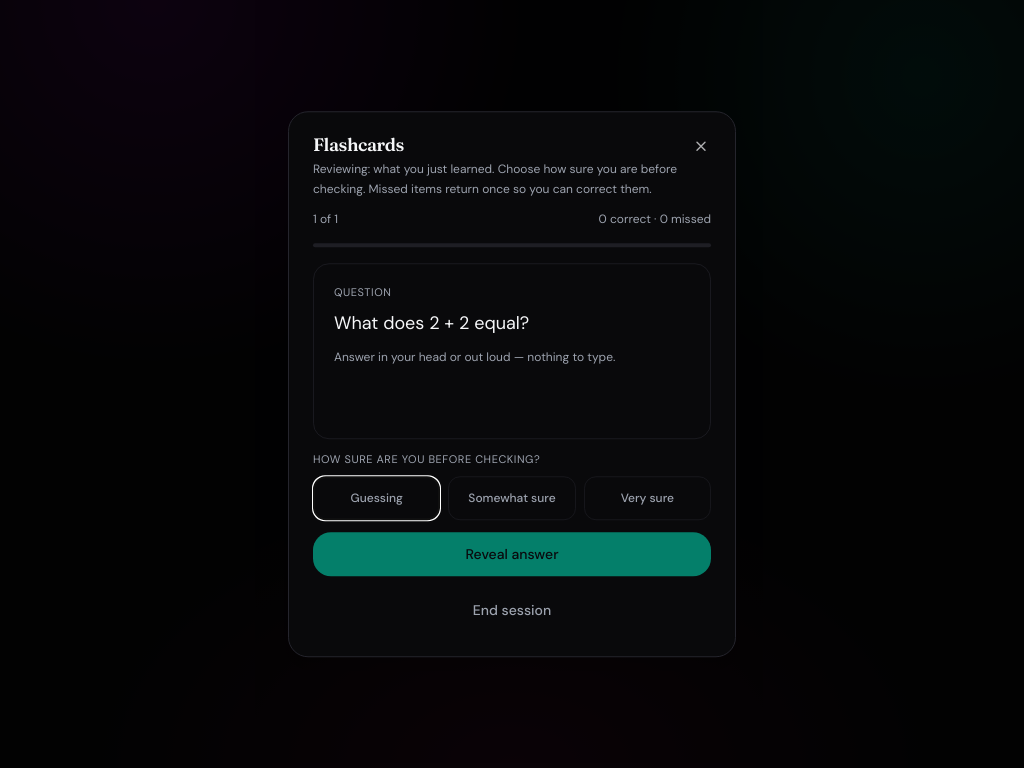
real flashcard runner › waits for an explicit finish after the final card is rated
The image size is (1024, 768).
Click the button "Very sure". click: (647, 498)
box: [584,476,711,520]
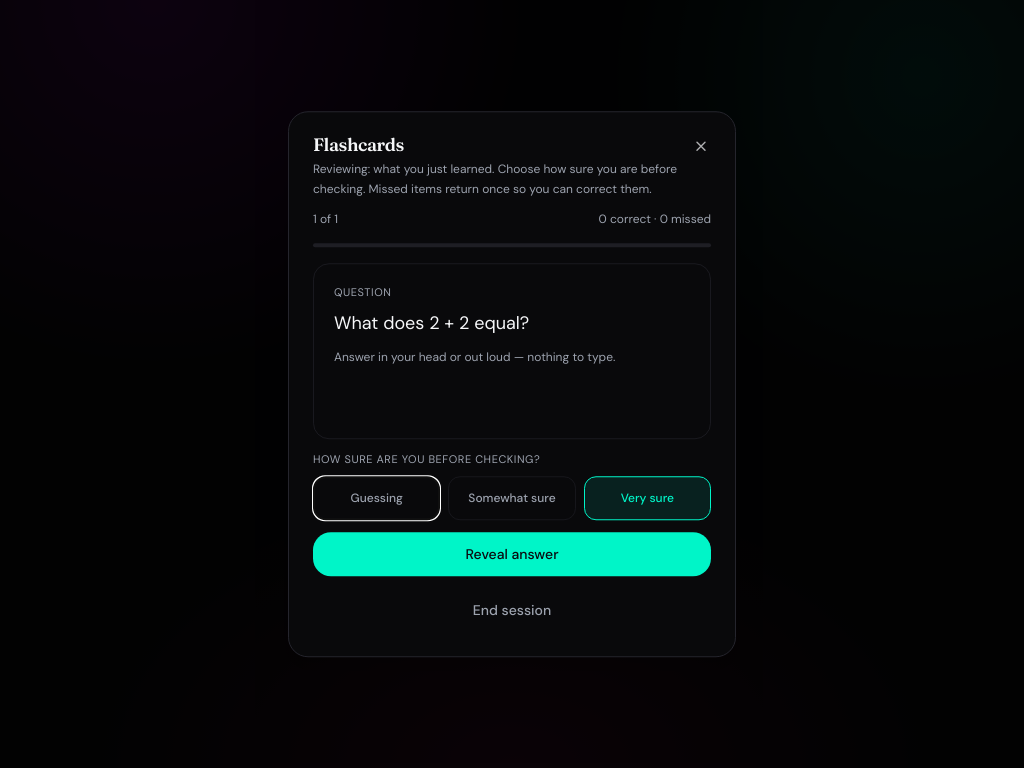
Click the button "Reveal answer". click: (512, 554)
box: [313,532,711,576]
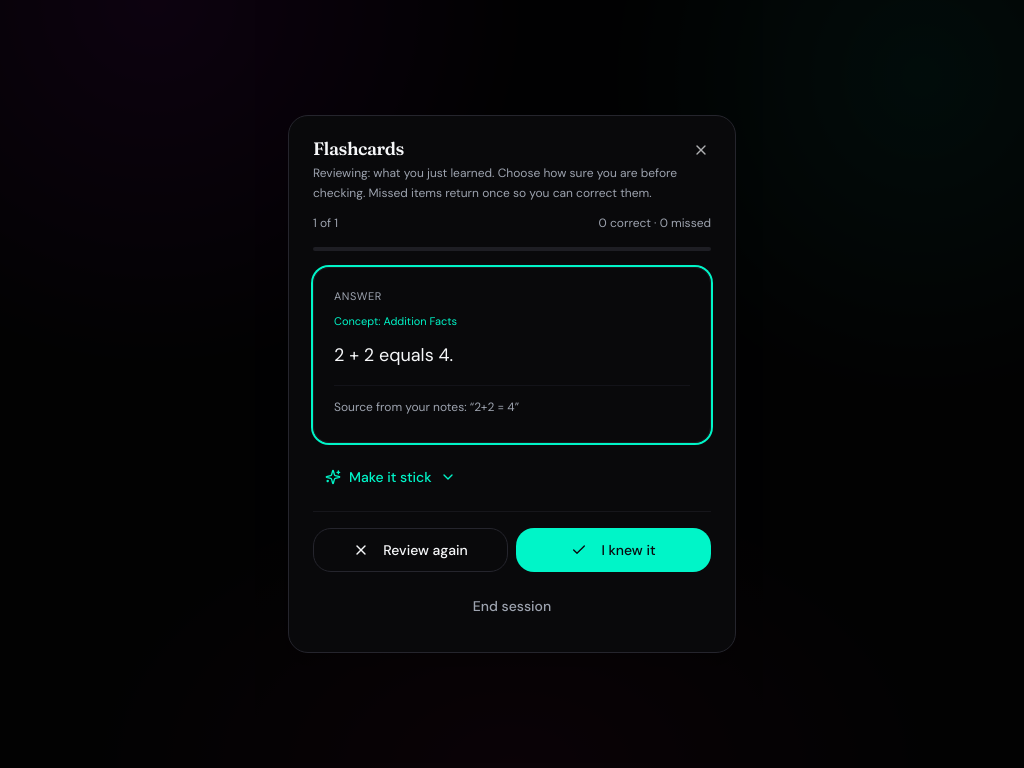
expect the button "I knew it" is enabled: met
Click the button "I knew it". click: (614, 550)
box: [516,528,711,572]
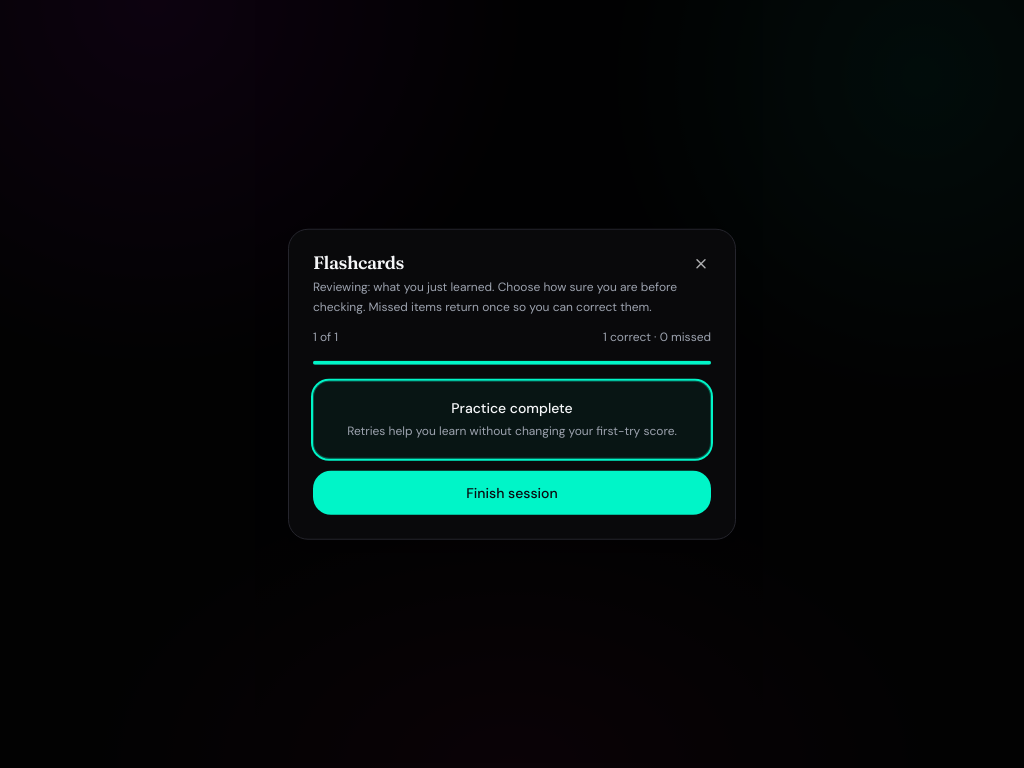
expect the text "Practice complete" is shown: met, box [451,399,573,417]
expect the button "Finish session" is shown: met
Click the button "Finish session". click: (512, 492)
box: [313,470,711,514]
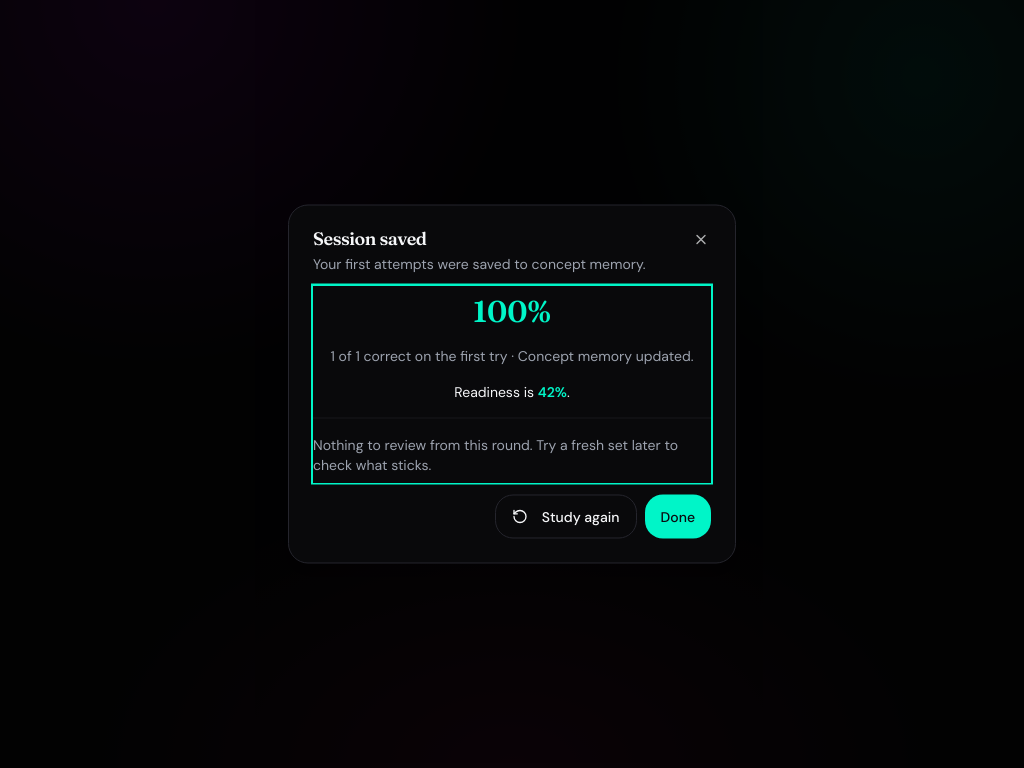
expect the heading "Session saved" is shown: met, box [313,226,427,250]
